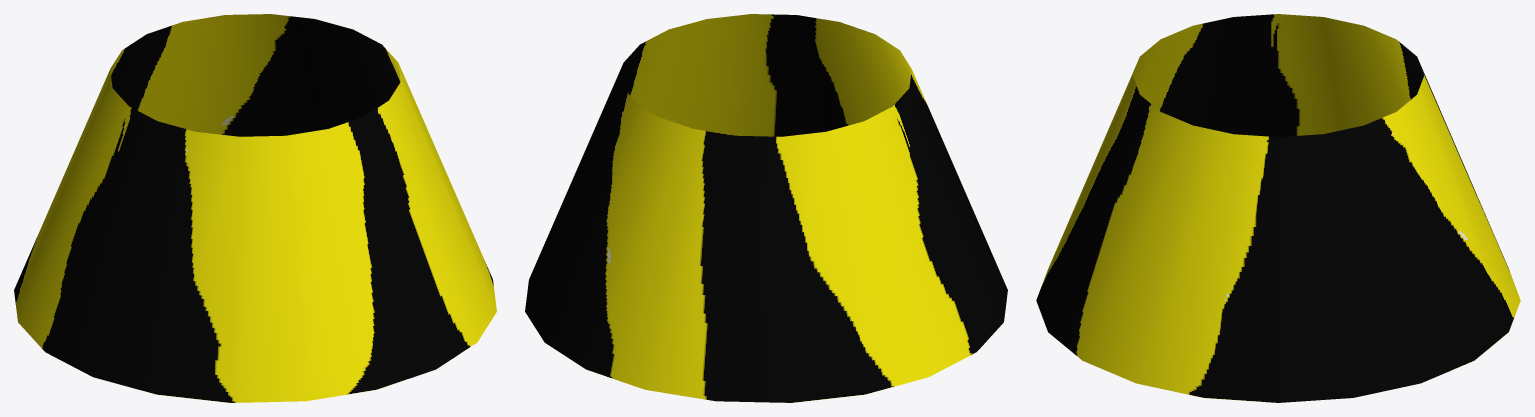
File: AttackEffect2.fbx
The picture shows the model from 3 angles, left to right: view 1: azimuth 30°, elevation 25°; view 2: azimuth 150°, elevation 25°; view 3: azimuth 270°, elevation 25°; orthographic projection.
Parts seen in each view (by area): view 1: pCylinder1; view 2: pCylinder1; view 3: pCylinder1.
Boxes of the visible parts, x1=… form: pCylinder1: x1=14, y1=14, x2=496, y2=402; pCylinder1: x1=525, y1=14, x2=1007, y2=402; pCylinder1: x1=1036, y1=14, x2=1520, y2=402.
Bounding box in the file's own units: 60 × 30.74 × 60.
Materials: 1 (1 with a texture image).
